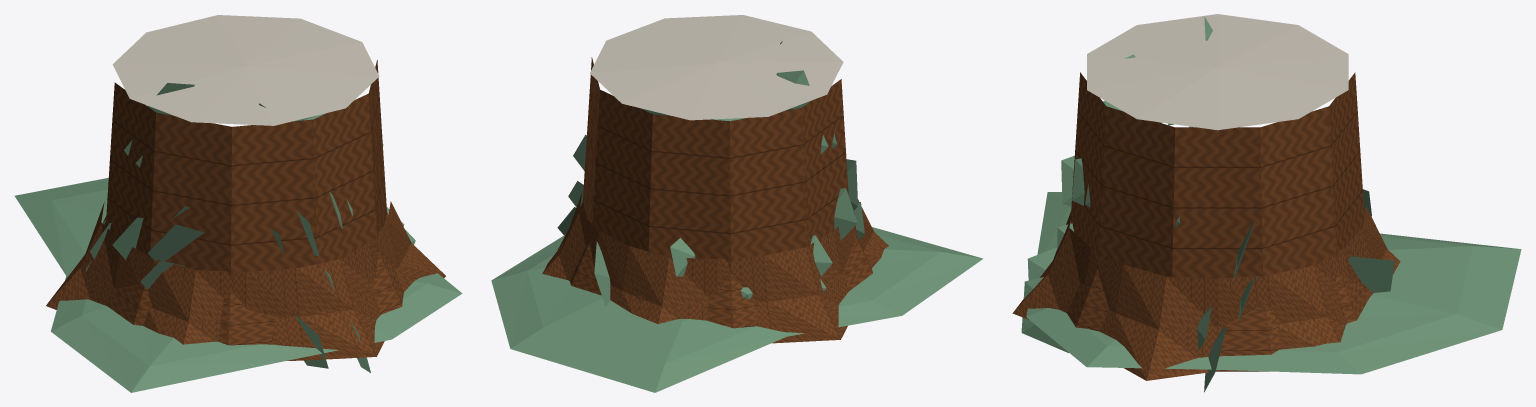
The model's file is dense-temperate-forest-flora-ivy-clad-stump-edd56ecc__28372.glb.
3 renders of one model, left to right at view 1: azimuth 30°, elevation 25°; view 2: azimuth 150°, elevation 25°; view 3: azimuth 270°, elevation 25°, orthographic. The views are drawn at different scales.
Visible parts, largest first — view 1: ivy-clad-stump; view 2: ivy-clad-stump; view 3: ivy-clad-stump.
Part boxes in pixels (x1,y1,x2,y2): ivy-clad-stump: (14, 15, 462, 392); ivy-clad-stump: (491, 15, 982, 392); ivy-clad-stump: (1012, 14, 1521, 392).
Size of the model in its own units: 1.08 by 0.7501 by 1.27.
Materials: 3 (1 with a texture image).
